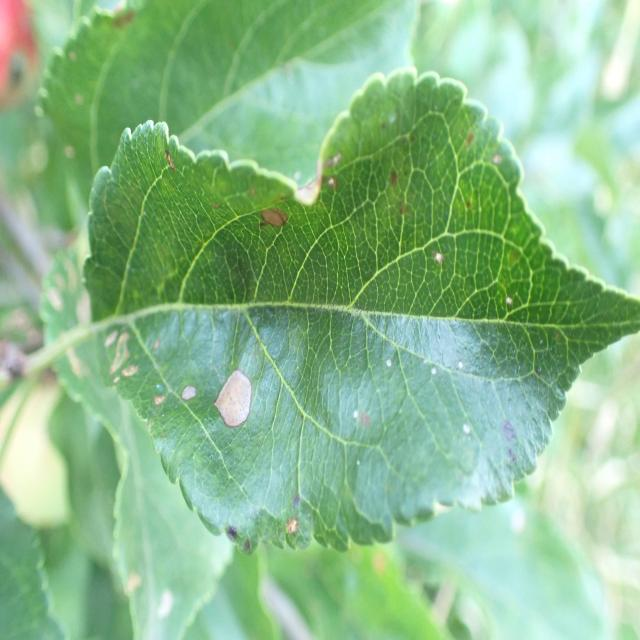frog-eye-leaf-spot: (83, 65, 640, 554)
